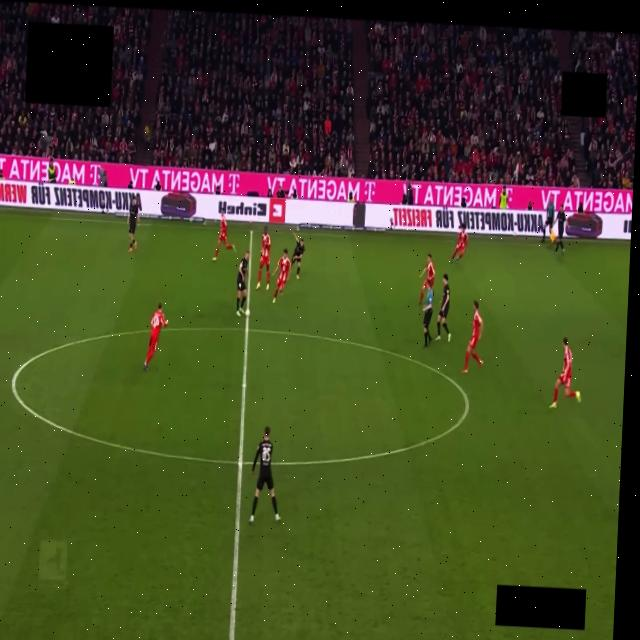ball: (245, 309, 249, 317)
player: (248, 427, 279, 523), (550, 337, 580, 408), (143, 303, 167, 370), (462, 300, 482, 373), (212, 213, 235, 261), (435, 274, 450, 341), (272, 248, 290, 302), (256, 227, 270, 289), (418, 255, 434, 305), (236, 251, 248, 316), (449, 224, 467, 263), (127, 196, 138, 252), (291, 234, 304, 279), (554, 207, 566, 254)
referee: (422, 284, 433, 348)
